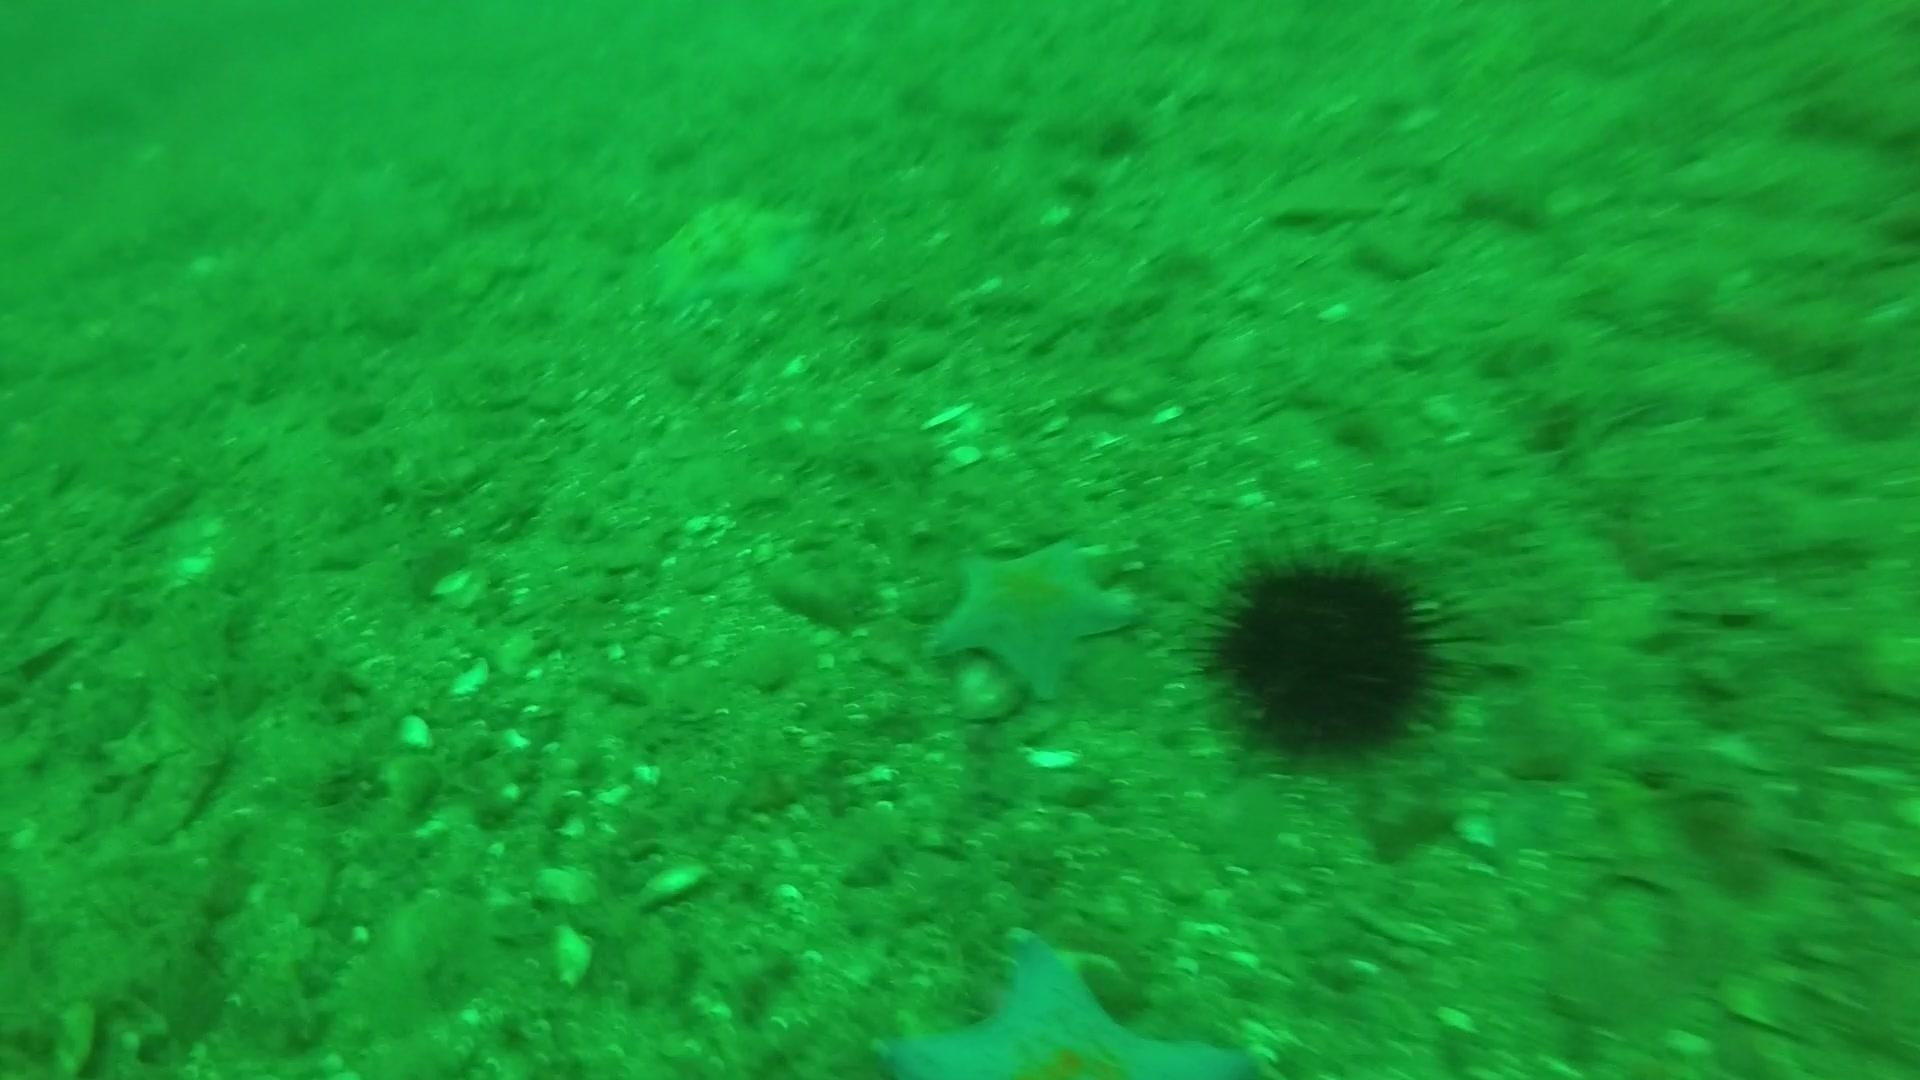echinus: (1189, 537, 1469, 767)
starfish: (872, 920, 1261, 1072), (922, 527, 1146, 709), (642, 185, 822, 322)
